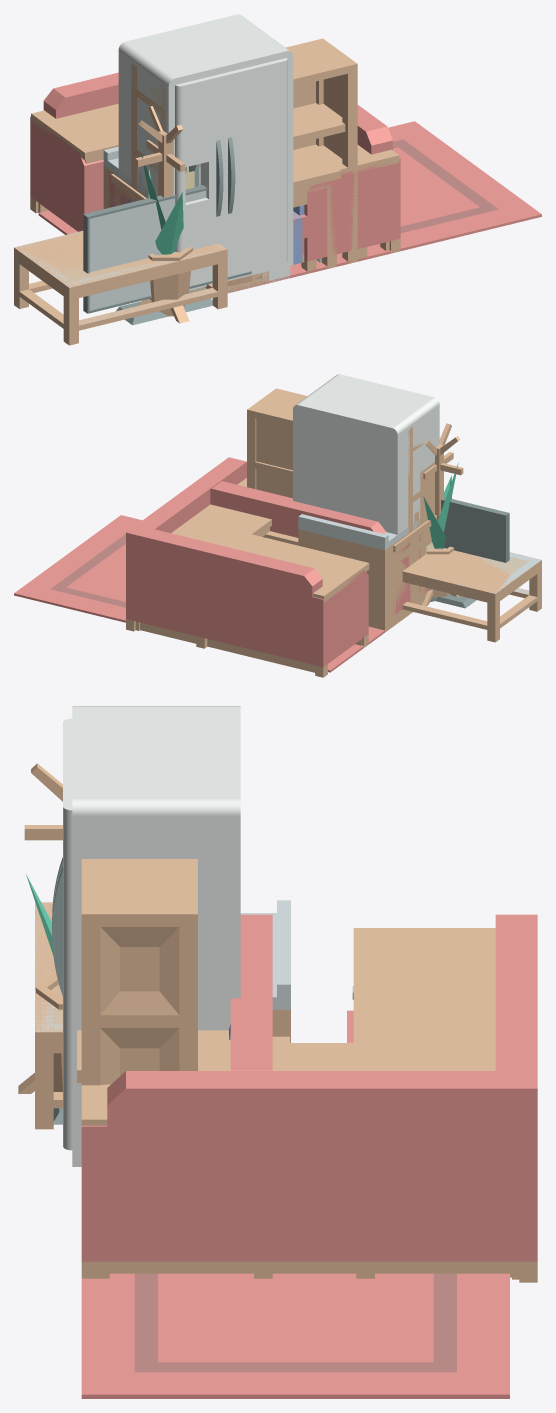
Rendered from office.glb.
3 renders of one model, top to bottom at view 1: azimuth 30°, elevation 25°; view 2: azimuth 150°, elevation 25°; view 3: azimuth 270°, elevation 25°, orthographic. The views are drawn at different scales.
Visible parts, largest first — view 1: loungeSofaCorner(Clone), kitchenFridgeLarge(Clone), doorRight, rugRectangle(Clone), tableCoffee(Clone), bookcaseClosedWide(Clone), doorLeft, televisionModern(Clone), deskCorner(Clone), desk(Clone), coatRackStanding(Clone), tableCoffeeGlass(Clone) (+8 smaller); view 2: loungeSofaCorner(Clone), kitchenFridgeLarge(Clone), deskCorner(Clone), rugRectangle(Clone), tableCoffee(Clone), kitchenCabinet(Clone), bookcaseClosedWide(Clone), loungeSofa(Clone), televisionModern(Clone), coatRackStanding(Clone), speaker(Clone), tableCoffeeGlass(Clone) (+4 smaller); view 3: loungeSofaCorner(Clone), rugRectangle(Clone), kitchenFridgeLarge(Clone), loungeSofa(Clone), deskCorner(Clone), bookcaseClosedWide(Clone), doorRight, tableCoffee(Clone), kitchenCabinet(Clone), coatRackStanding(Clone), pottedPlant(Clone), tableCoffeeGlass(Clone).
Boxes of the visible parts, x1,y1,x2,y2 form: loungeSofaCorner(Clone): (30, 72, 400, 272); kitchenFridgeLarge(Clone): (118, 14, 293, 292); doorRight: (221, 58, 287, 276); rugRectangle(Clone): (38, 121, 541, 292); tableCoffee(Clone): (14, 231, 227, 345); bookcaseClosedWide(Clone): (131, 38, 357, 263); doorLeft: (175, 74, 223, 286); televisionModern(Clone): (83, 185, 251, 325); deskCorner(Clone): (31, 103, 399, 265); desk(Clone): (111, 147, 340, 268); coatRackStanding(Clone): (135, 106, 189, 323); tableCoffeeGlass(Clone): (14, 231, 226, 326); loungeSofaCorner(Clone): (126, 457, 368, 677); kitchenFridgeLarge(Clone): (293, 374, 439, 537); deskCorner(Clone): (135, 478, 369, 673); rugRectangle(Clone): (14, 515, 384, 672); tableCoffee(Clone): (402, 548, 541, 642); kitchenCabinet(Clone): (298, 514, 409, 632); bookcaseClosedWide(Clone): (247, 388, 427, 613); loungeSofa(Clone): (210, 481, 429, 626); televisionModern(Clone): (435, 497, 509, 608); coatRackStanding(Clone): (422, 423, 463, 606); speaker(Clone): (420, 462, 434, 605); tableCoffeeGlass(Clone): (415, 552, 540, 620); loungeSofaCorner(Clone): (81, 914, 537, 1282); rugRectangle(Clone): (81, 1273, 509, 1398); kitchenFridgeLarge(Clone): (72, 706, 240, 1166); loungeSofa(Clone): (91, 914, 272, 1278); deskCorner(Clone): (81, 928, 519, 1279); bookcaseClosedWide(Clone): (81, 859, 197, 1085); doorRight: (52, 756, 72, 1150); tableCoffee(Clone): (35, 902, 62, 1129); kitchenCabinet(Clone): (240, 900, 290, 1042); coatRackStanding(Clone): (18, 763, 62, 1093); pottedPlant(Clone): (35, 972, 62, 1091); tableCoffeeGlass(Clone): (35, 902, 62, 1031).
Size of the model in its own units: 2.03 by 0.92 by 1.12.
